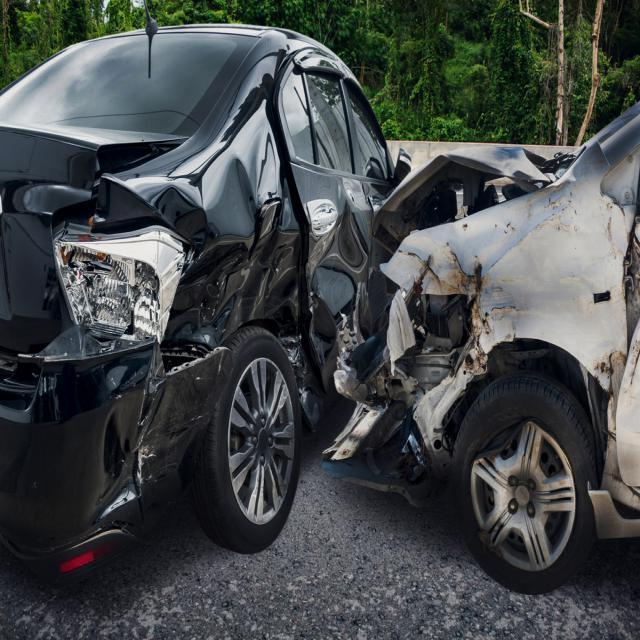accident: (2, 18, 640, 598)
